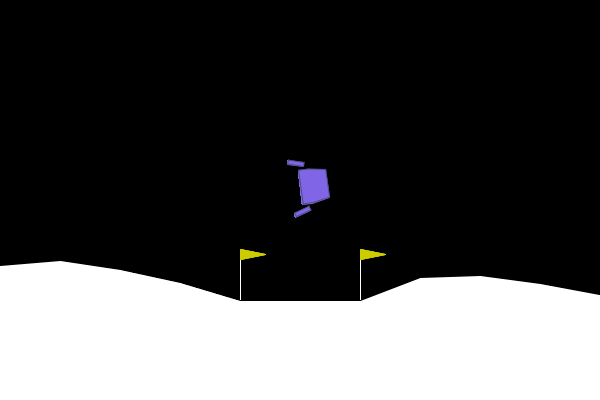lander: (285, 154, 333, 219)
